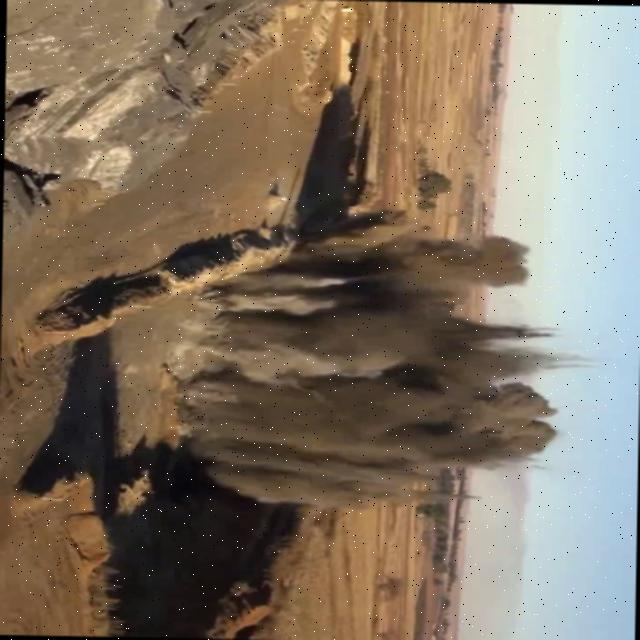explosion: (70, 164, 592, 526)
